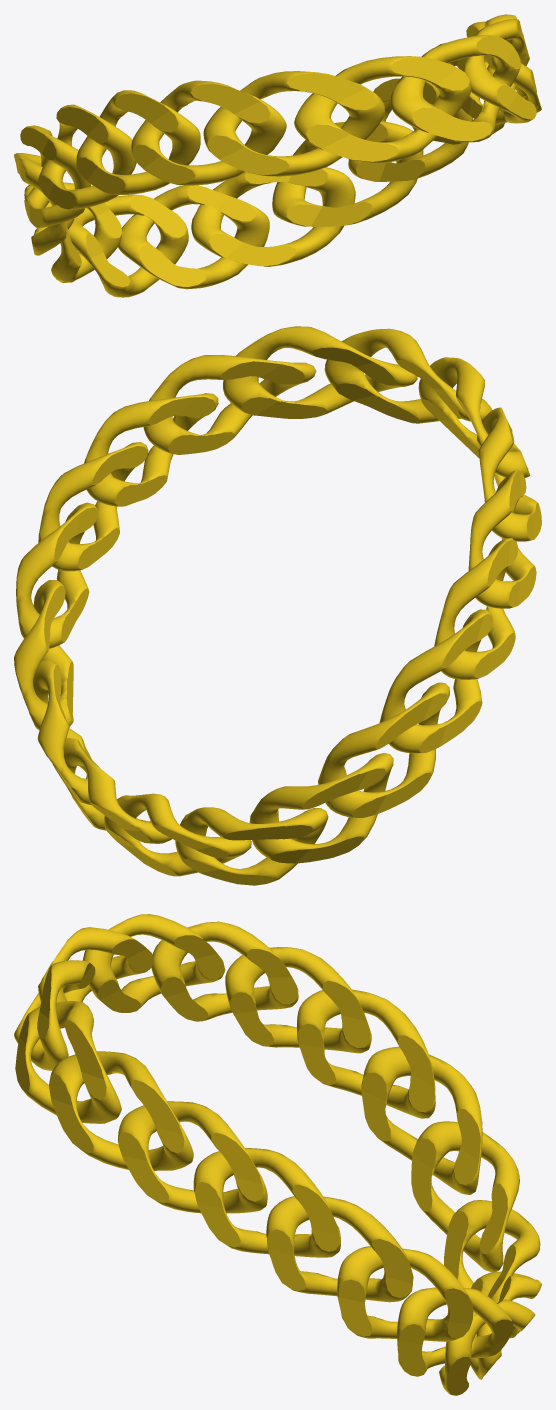
Rendered from goldchain.fbx.
3 renders of one model, top to bottom at view 1: azimuth 30°, elevation 25°; view 2: azimuth 150°, elevation 25°; view 3: azimuth 270°, elevation 25°, orthographic. The views are drawn at different scales.
Parts seen in each view (by area): view 1: BezierCircle.001; view 2: BezierCircle.001; view 3: BezierCircle.001.
Boxes of the visible parts, x1,y1,x2,y2 form: BezierCircle.001: (14,14,541,297); BezierCircle.001: (14,326,541,885); BezierCircle.001: (14,914,541,1395).
Bounding box in the file's own units: 188 × 158 × 191.
